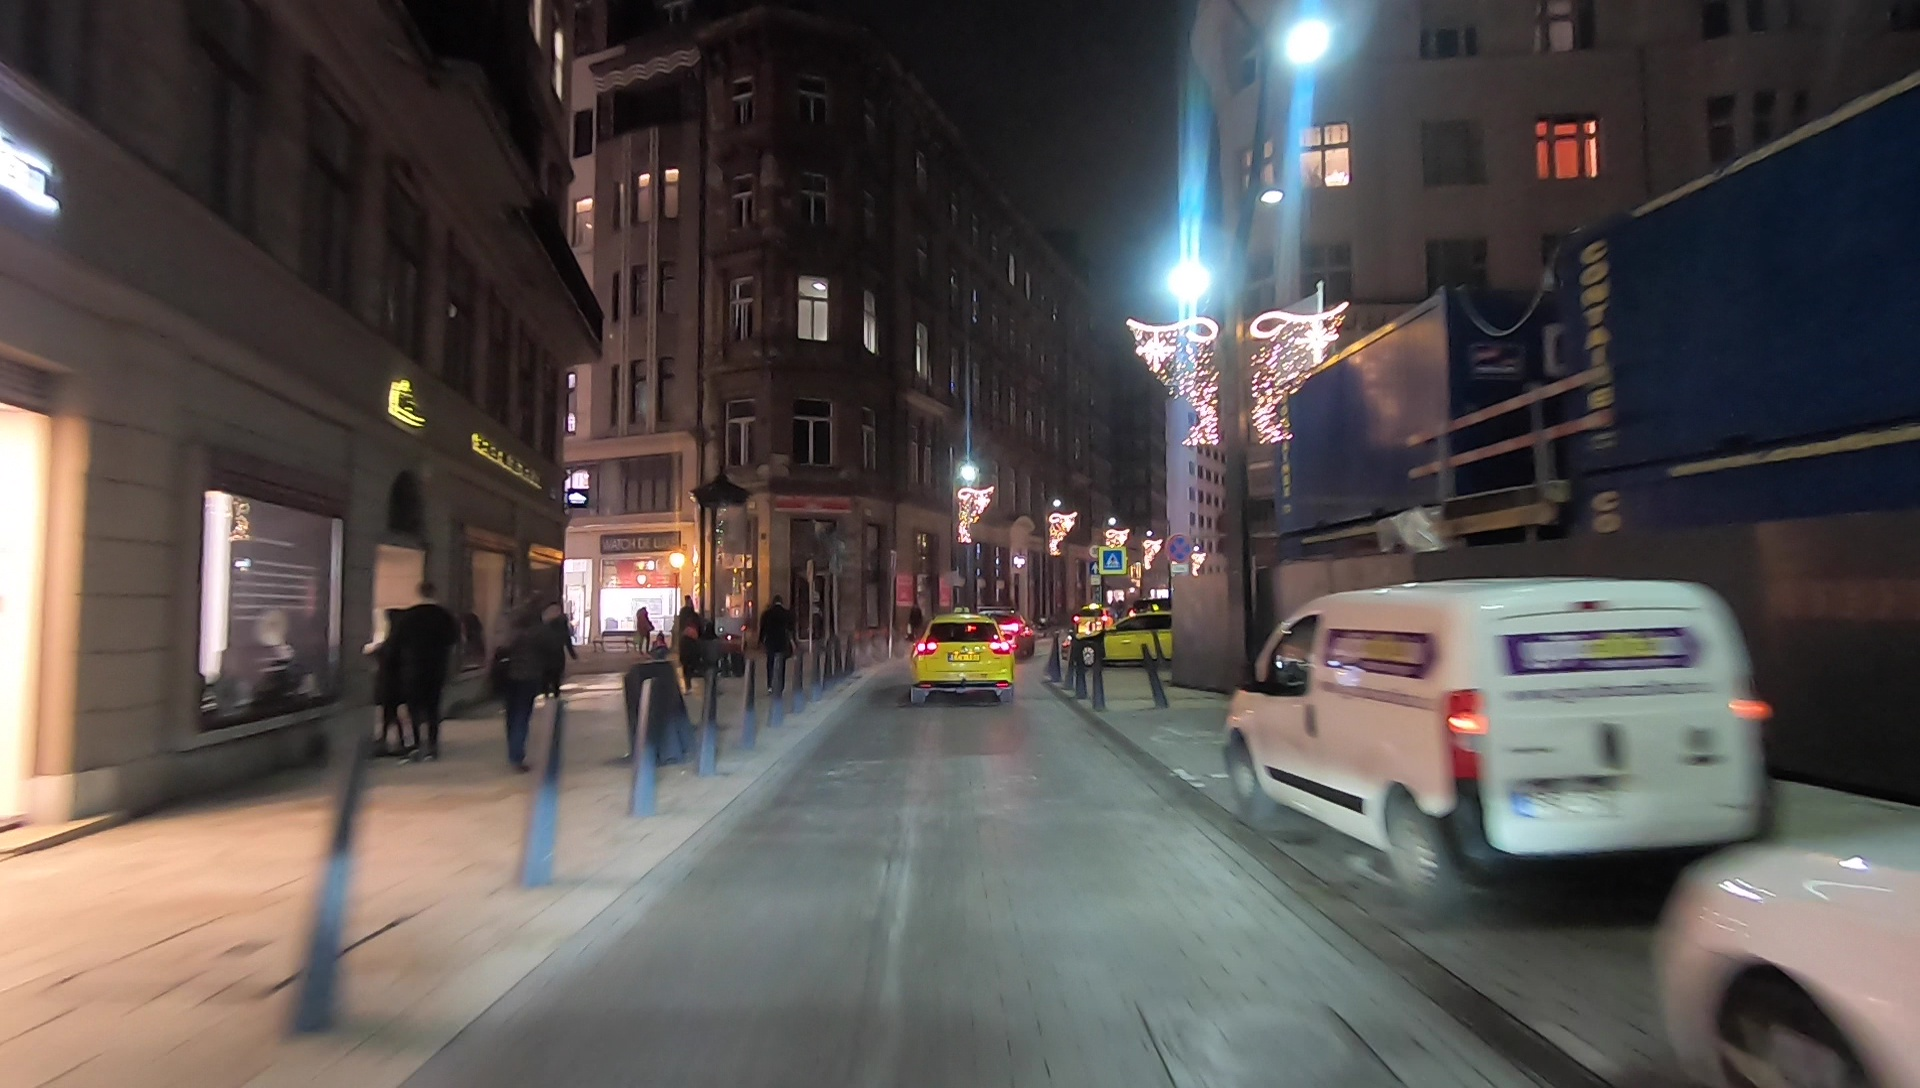person: (489, 587, 538, 778), (405, 585, 453, 762), (760, 595, 794, 704), (678, 594, 713, 697), (541, 598, 575, 703)
